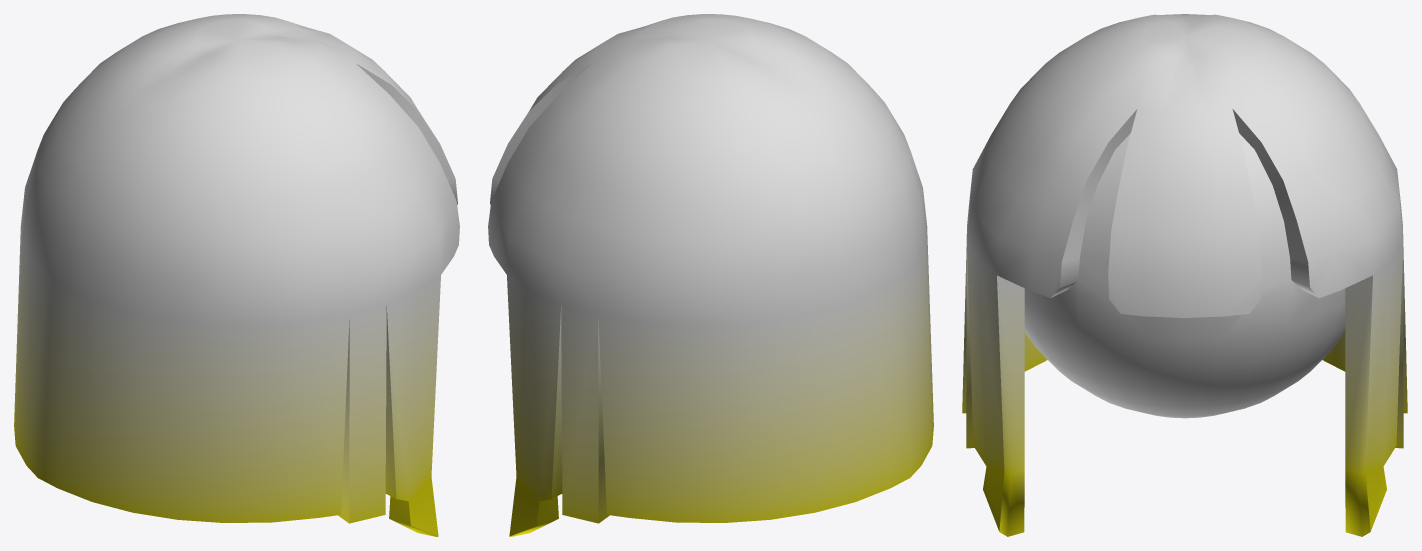
File: HEAD_TYPE_HAIRLONG.glb
The picture shows the model from 3 angles, left to right: view 1: azimuth 30°, elevation 25°; view 2: azimuth 150°, elevation 25°; view 3: azimuth 270°, elevation 25°; orthographic projection.
Parts seen in each view (by area): view 1: Sphere; view 2: Sphere; view 3: Sphere.
Boxes of the visible parts, bbox=[...] form: Sphere: bbox=[14, 14, 459, 536]; Sphere: bbox=[488, 14, 933, 536]; Sphere: bbox=[962, 14, 1407, 536].
Bounding box in the file's own units: 2.31 × 2.58 × 2.31.
